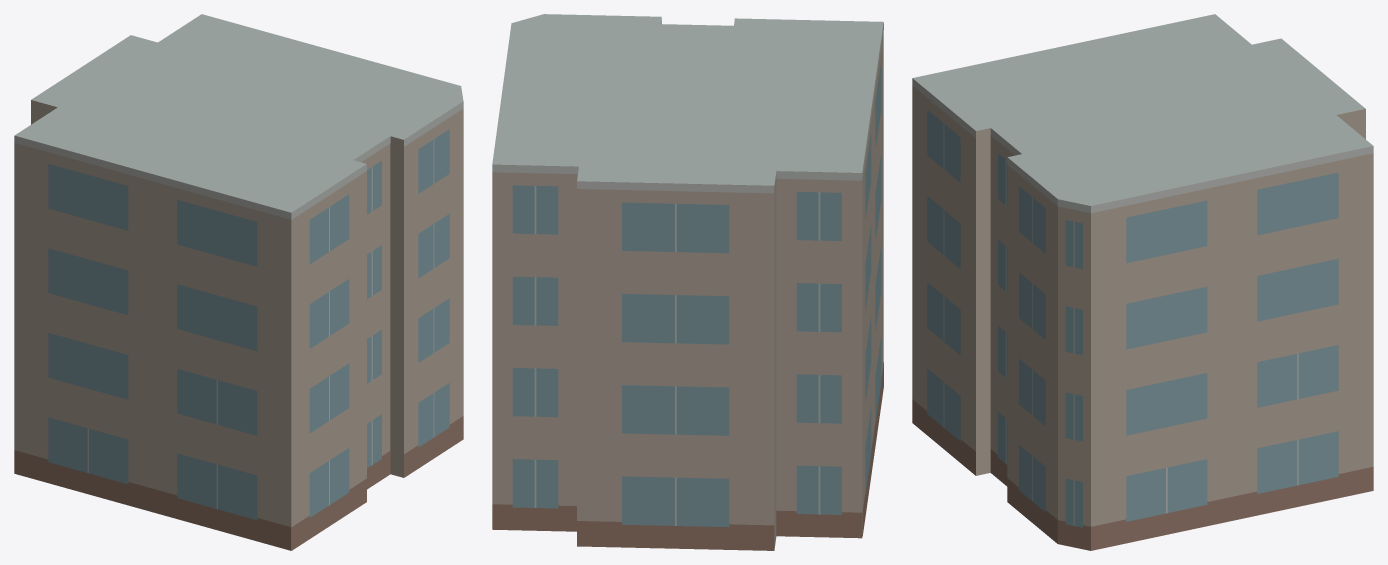
File: survey-upis-32738256.glb
3 views of the same model, side by side, from view 1: azimuth 30°, elevation 25°; view 2: azimuth 150°, elevation 25°; view 3: azimuth 270°, elevation 25° (orthographic). The views are drawn at different scales.
Visible parts, largest first — view 1: survey-upis-32738256.tmp; view 2: survey-upis-32738256.tmp; view 3: survey-upis-32738256.tmp.
Part boxes in pixels (<box>): survey-upis-32738256.tmp: <box>14,14,463,550</box>; survey-upis-32738256.tmp: <box>492,14,883,550</box>; survey-upis-32738256.tmp: <box>912,14,1373,550</box>.
Size of the model in its own units: 13.86 by 11.6 by 14.07.
